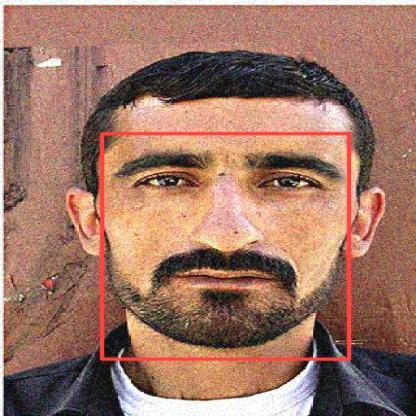without_mask: (102, 133, 349, 359)
